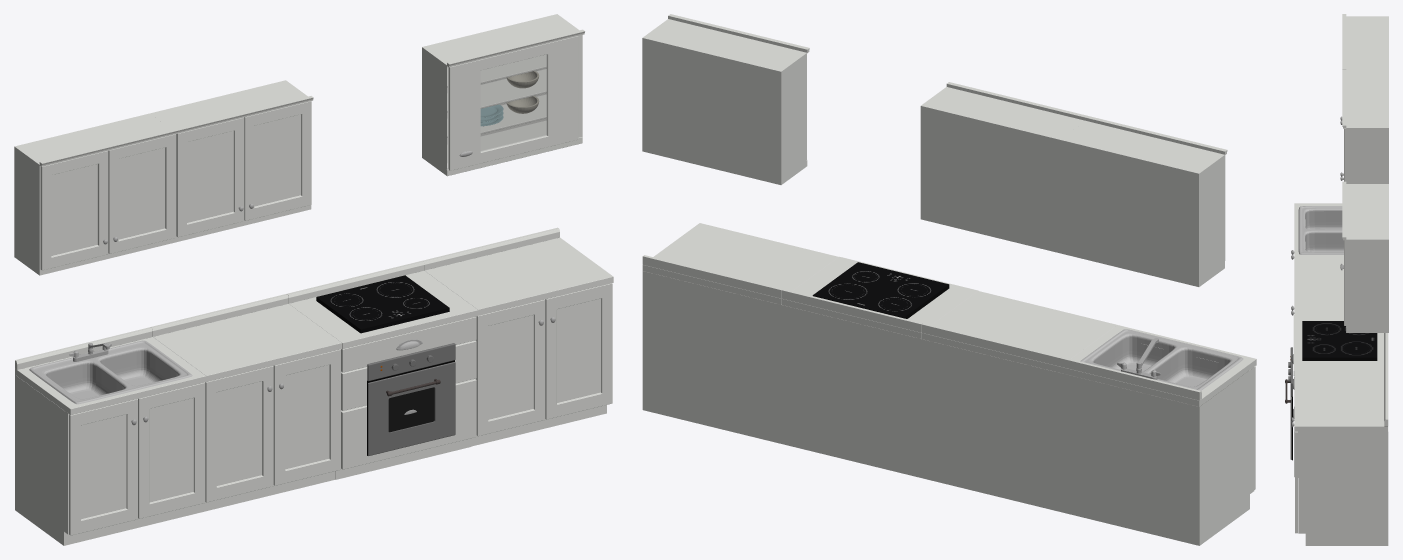
File: modern-kitchen.glb
3 views of the same model, side by side, from view 1: azimuth 30°, elevation 25°; view 2: azimuth 150°, elevation 25°; view 3: azimuth 270°, elevation 25° (orthographic). The views are drawn at different scales.
Parts seen in each view (by area): view 1: Cupboard-units (×5), Worktops-main (×3), 08___Default, Wood-top-suround (×3), Aluminum, Glass, Material, wire_000000000, Material__2, whitemat; view 2: Cupboard-units (×5), Worktops-main (×3), Wood-top-suround (×3), Aluminum, Material; view 3: Cupboard-units (×3), Worktops-main (×3), Material, Aluminum, Wood-top-suround (×2), 08___Default.
Boxes of the visible parts, <box> form: Cupboard-units (×5): <box>14,14,612,545</box>; Worktops-main (×3): <box>15,237,613,415</box>; 08___Default: <box>367,343,455,455</box>; Wood-top-suround (×3): <box>15,227,559,369</box>; Aluminum: <box>29,340,192,404</box>; Glass: <box>481,55,545,150</box>; Material: <box>316,275,449,333</box>; wire_000000000: <box>367,360,454,455</box>; Material__2: <box>389,388,434,431</box>; whitemat: <box>506,71,538,113</box>; Cupboard-units (×5): <box>642,14,1255,545</box>; Worktops-main (×3): <box>642,223,1256,406</box>; Wood-top-suround (×3): <box>642,255,1201,400</box>; Aluminum: <box>1080,329,1243,390</box>; Material: <box>812,262,949,318</box>; Cupboard-units (×3): <box>1295,14,1388,545</box>; Worktops-main (×3): <box>1293,203,1387,431</box>; Material: <box>1302,321,1377,360</box>; Aluminum: <box>1298,206,1343,254</box>; Wood-top-suround (×2): <box>1384,333,1388,426</box>; 08___Default: <box>1288,347,1292,459</box>.
Size of the model in its own units: 3.6 by 2.32 by 0.7075.
28 materials, 1 textured.
